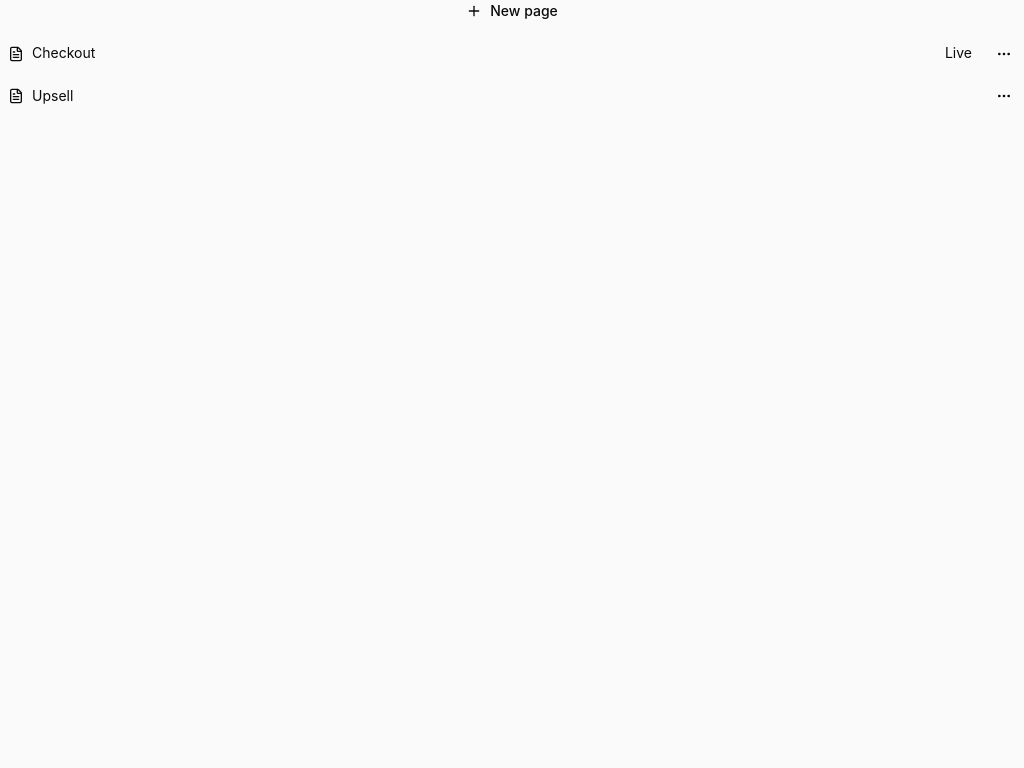
Test: PagesPanel › deleting › confirms first
Step 1. Click the button named "Actions for Checkout" → (1004, 54), box [984, 46, 1023, 62]
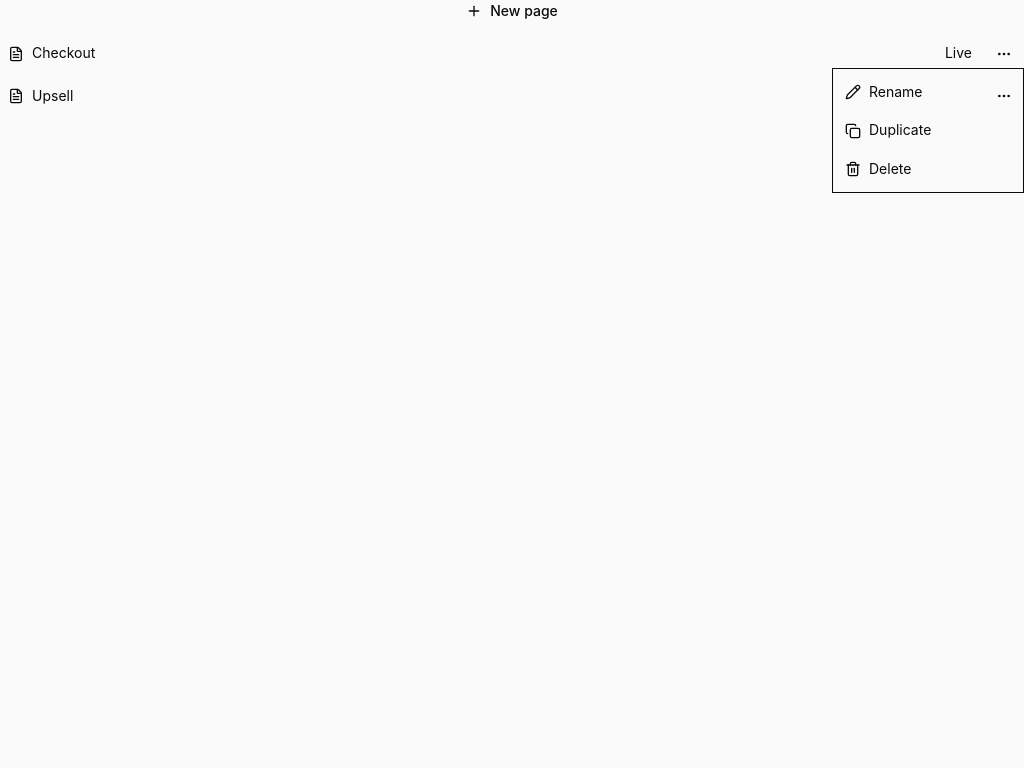
Step 2. Click the menu item "Delete" → (878, 169), box [845, 157, 911, 181]
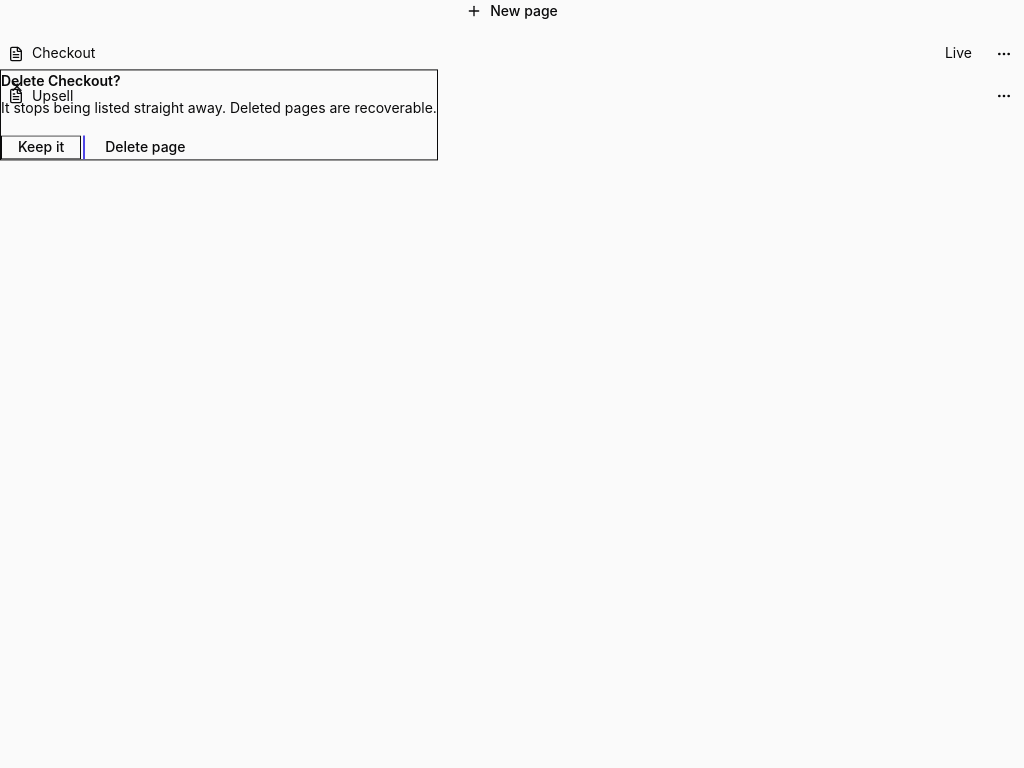
Check: the dialog "Delete Checkout?" is shown, box [0, 70, 438, 161]
